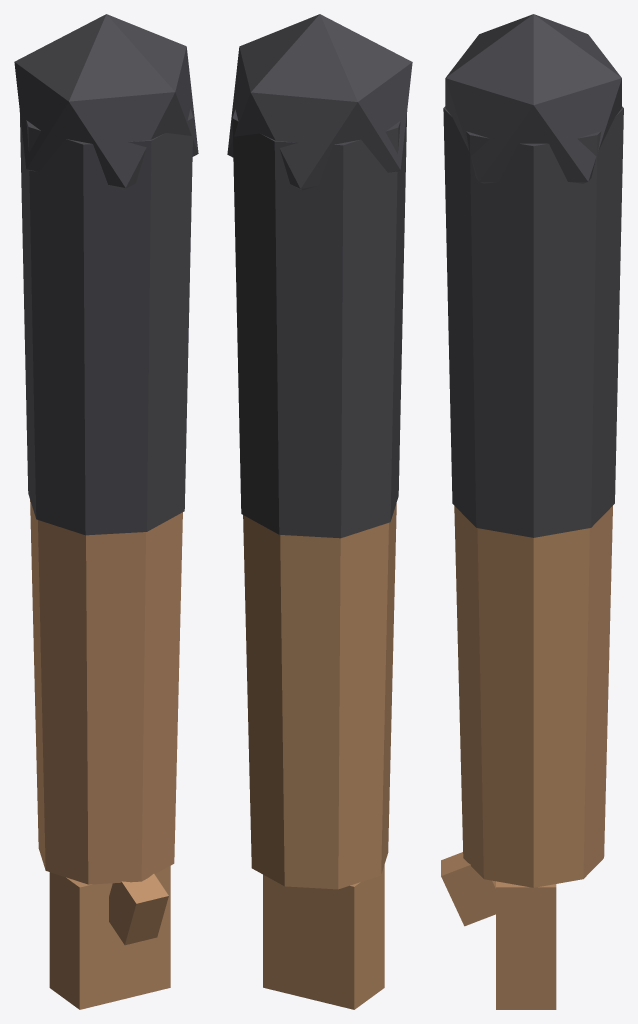
The model's file is PersonSmithArmR.obj.
3 renders of one model, left to right at view 1: azimuth 30°, elevation 25°; view 2: azimuth 150°, elevation 25°; view 3: azimuth 270°, elevation 25°, orthographic.
Visible parts, largest first — view 1: PersonSmithArmR; view 2: PersonSmithArmR; view 3: PersonSmithArmR.
Boxes of the visible parts, <box> form: PersonSmithArmR: <box>14,14,198,1009</box>; PersonSmithArmR: <box>227,14,412,1009</box>; PersonSmithArmR: <box>441,14,623,1009</box>.
Size of the model in its own units: 0.1234 by 0.714 by 0.1216.
